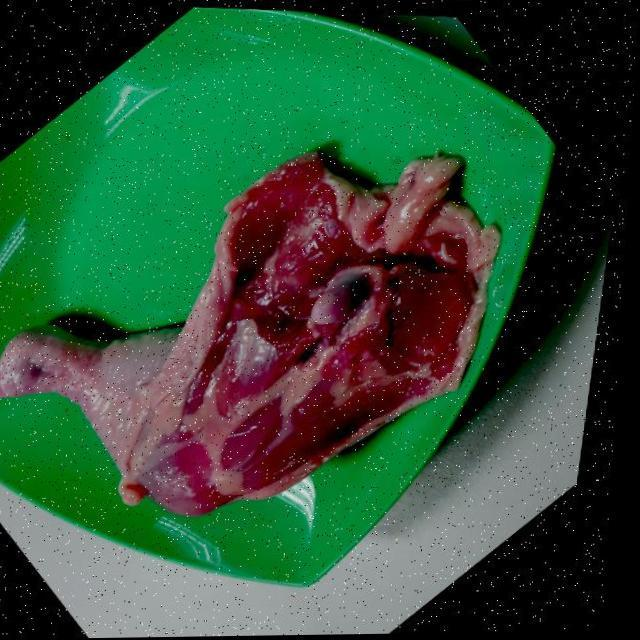quater: (0, 150, 488, 515)
